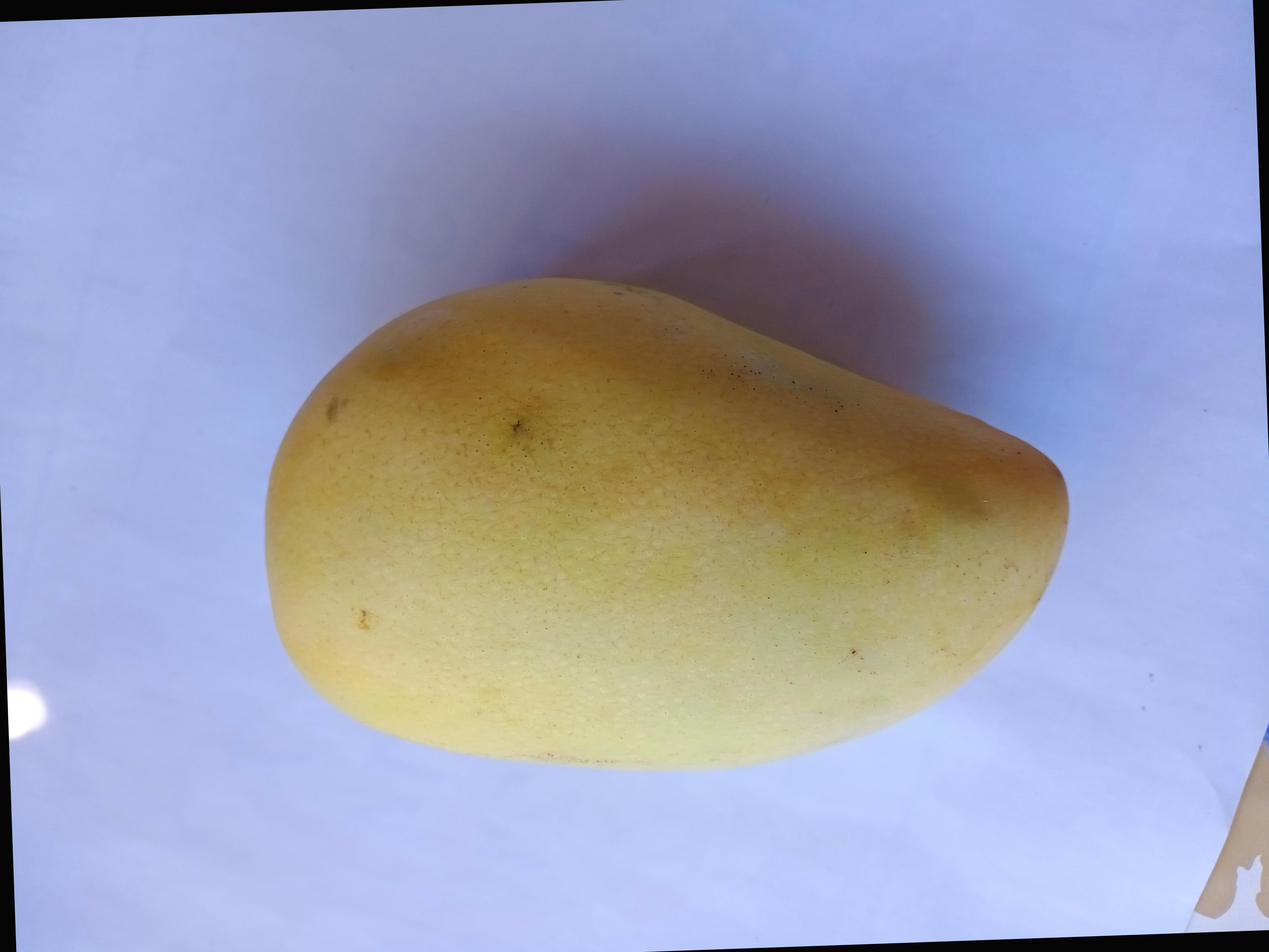Mango Ripe: (178, 263, 1090, 855)
